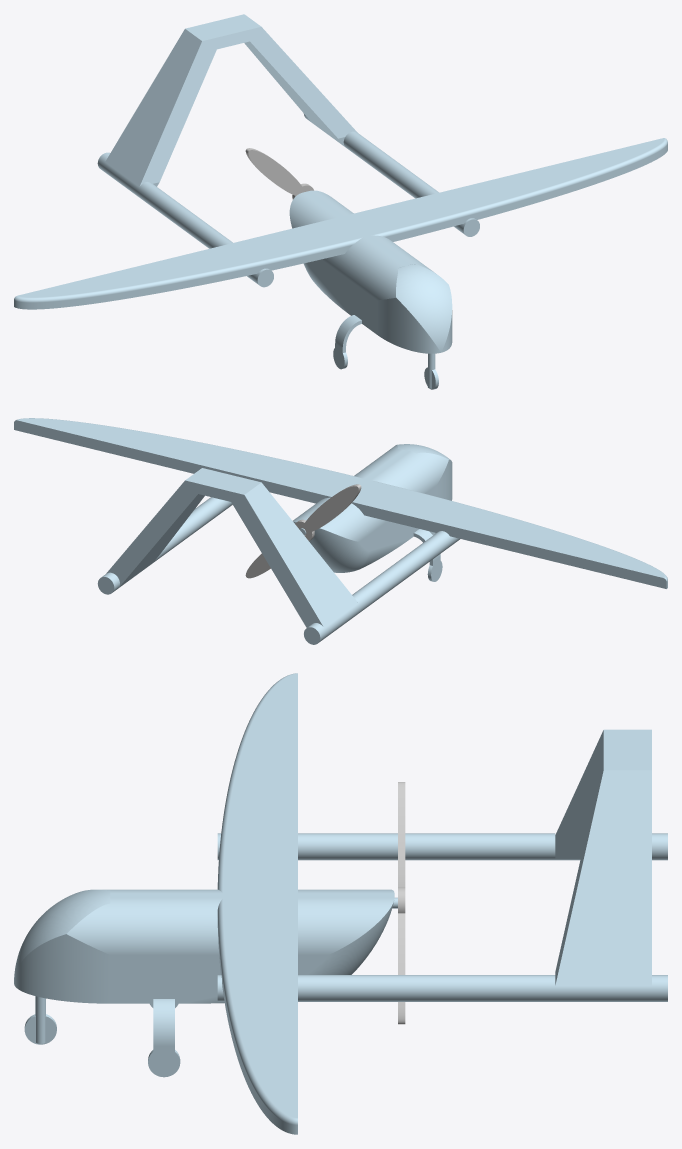
File: Falcon.glb
3 renders of one model, top to bottom at view 1: azimuth 30°, elevation 25°; view 2: azimuth 150°, elevation 25°; view 3: azimuth 270°, elevation 25°, orthographic. The views are drawn at different scales.
Size of the model in its own units: 25.15 by 7.67 by 15.49.
